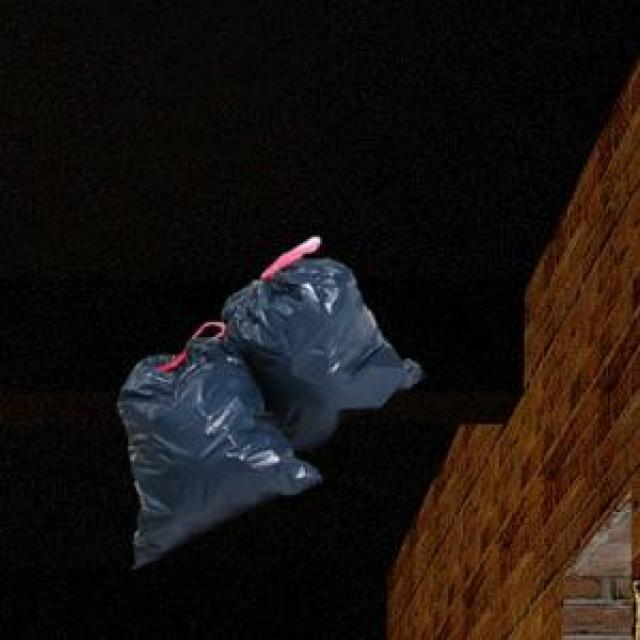waste: (118, 238, 424, 566)
